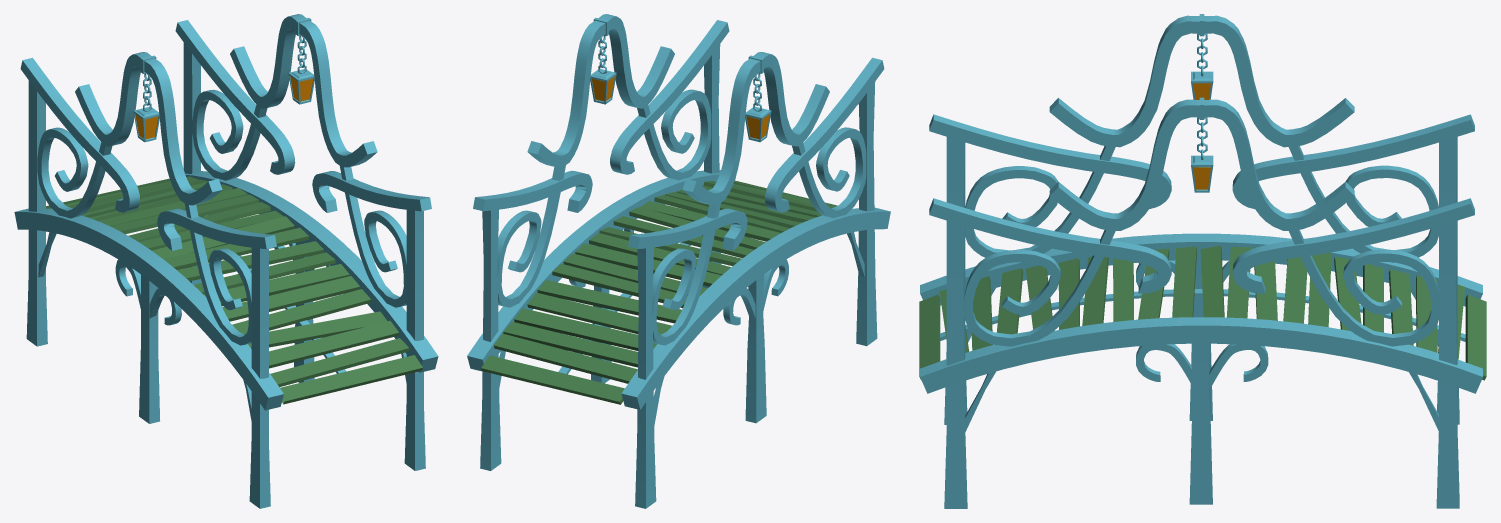
Rendered from Pont FBX.fbx.
3 renders of one model, left to right at view 1: azimuth 30°, elevation 25°; view 2: azimuth 150°, elevation 25°; view 3: azimuth 270°, elevation 25°, orthographic. The views are drawn at different scales.
Parts seen in each view (by area): view 1: Support_Bois, Low poly planches, Lampe, lumiere; view 2: Support_Bois, Low poly planches, Lampe, lumiere; view 3: Support_Bois, Low poly planches, Lampe, lumiere.
Part boxes in pixels (<box>): Support_Bois: <box>14,14,438,508</box>; Low poly planches: <box>46,176,422,404</box>; Lampe: <box>133,35,314,142</box>; lumiere: <box>135,76,313,139</box>; Support_Bois: <box>467,14,890,508</box>; Low poly planches: <box>481,181,837,404</box>; Lampe: <box>590,35,771,142</box>; lumiere: <box>591,76,769,139</box>; Support_Bois: <box>920,14,1482,508</box>; Low poly planches: <box>919,245,1486,380</box>; Lampe: <box>1191,33,1213,192</box>; lumiere: <box>1193,83,1210,189</box>.
Size of the model in its own units: 237 by 477 by 606.
